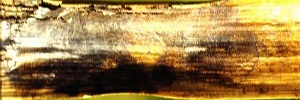RiceSheathBrownRot: (1, 1, 298, 100)
